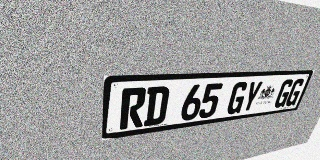5: (198, 83, 223, 119)
6: (179, 84, 205, 121)
D: (143, 86, 170, 127)
G: (225, 82, 250, 115), (273, 79, 295, 108), (284, 78, 306, 107)
R: (119, 87, 147, 130)
Y: (240, 81, 264, 113)
